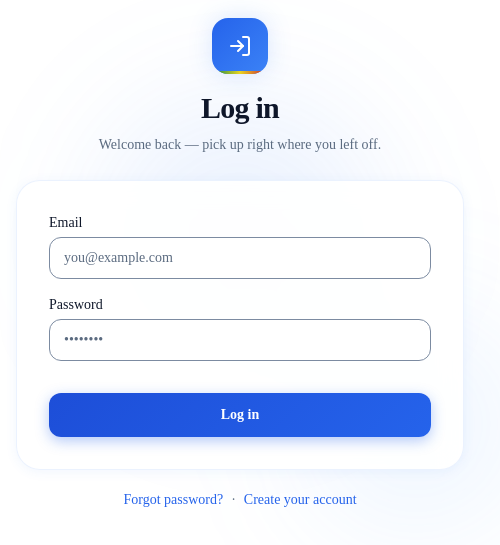
login page resend link › does not offer it for a wrong password
Type "a@example.com" into the field labelled "Email" at x=240, y=258, box x1=49 y1=237 x2=431 y2=279
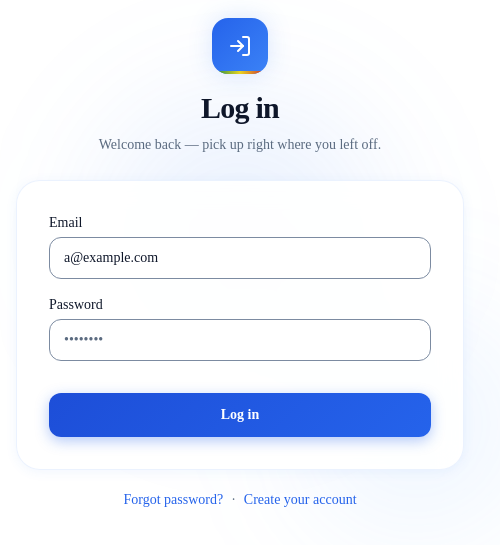
Type "secret-pass" into the password field labelled "Password" at x=240, y=340, box x1=49 y1=319 x2=431 y2=361
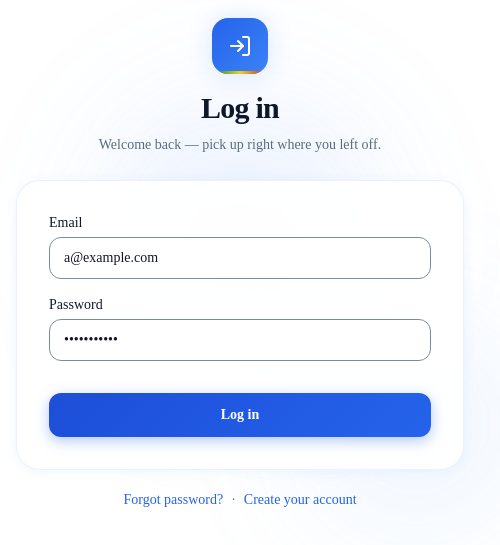
Submit the form labelled "Email", box x1=49 y1=213 x2=431 y2=437
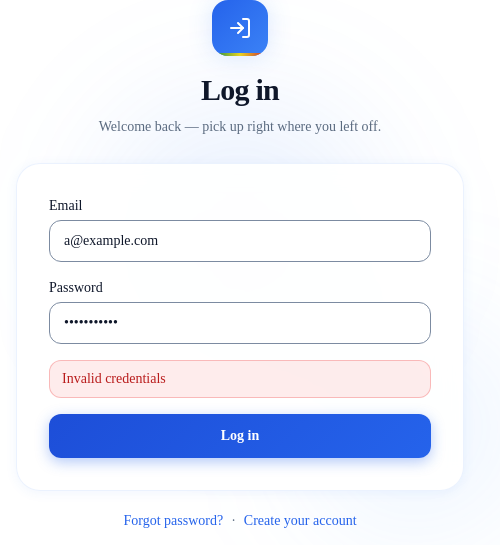
Expected: the text "Invalid credentials" is shown, x1=49 y1=360 x2=431 y2=398
